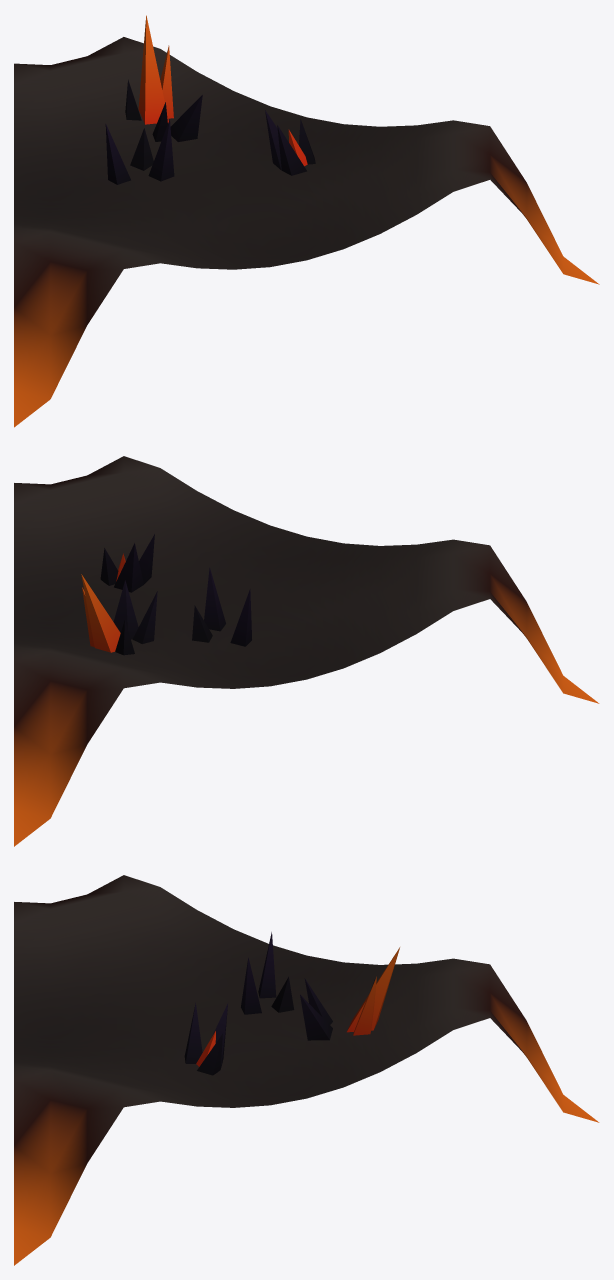
The model's file is MODULE_LAVA_L2_OBSIDIAN.fbx.
3 views of the same model, one above another, from view 1: azimuth 30°, elevation 25°; view 2: azimuth 150°, elevation 25°; view 3: azimuth 270°, elevation 25° (orthographic).
Parts seen in each view (by area): view 1: MODULE_LAVA_L2_OBSIDIAN__export, MODULE_LAVA_L2_OBSIDIAN_DECOR__export; view 2: MODULE_LAVA_L2_OBSIDIAN__export, MODULE_LAVA_L2_OBSIDIAN_DECOR__export; view 3: MODULE_LAVA_L2_OBSIDIAN__export, MODULE_LAVA_L2_OBSIDIAN_DECOR__export.
Boxes of the visible parts, x1,y1,x2,y2 form: MODULE_LAVA_L2_OBSIDIAN__export: [14, 37, 599, 427]; MODULE_LAVA_L2_OBSIDIAN_DECOR__export: [105, 15, 315, 184]; MODULE_LAVA_L2_OBSIDIAN__export: [14, 456, 599, 846]; MODULE_LAVA_L2_OBSIDIAN_DECOR__export: [81, 534, 251, 655]; MODULE_LAVA_L2_OBSIDIAN__export: [14, 875, 599, 1265]; MODULE_LAVA_L2_OBSIDIAN_DECOR__export: [184, 932, 399, 1075].
Size of the model in its own units: 100 by 31.41 by 86.6.
